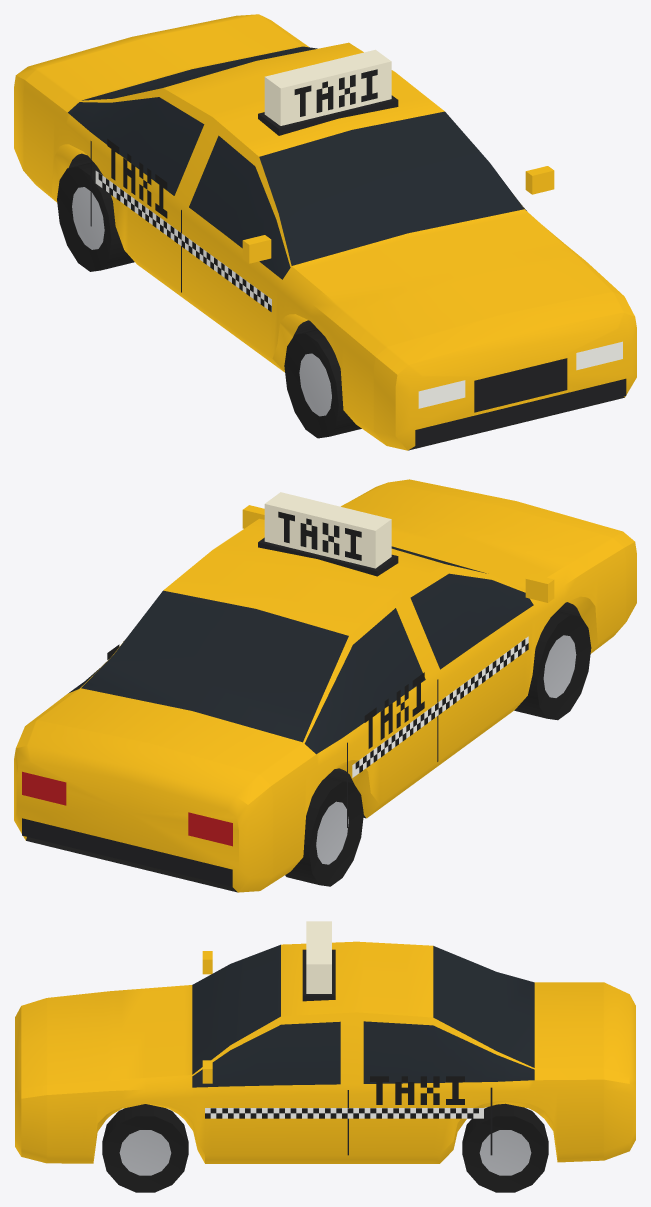
File: nyc_taxi.glb
3 views of the same model, one above another, from view 1: azimuth 30°, elevation 25°; view 2: azimuth 150°, elevation 25°; view 3: azimuth 270°, elevation 25° (orthographic). The views are drawn at different scales.
Parts seen in each view (by area): view 1: nyc_taxi; view 2: nyc_taxi; view 3: nyc_taxi.
Boxes of the visible parts, x1,y1,x2,y2 form: nyc_taxi: [14, 14, 636, 450]; nyc_taxi: [14, 479, 636, 892]; nyc_taxi: [15, 921, 635, 1192].
Size of the model in its own units: 2.2 by 1.75 by 4.91.
Materials: 1 (1 with a texture image).
